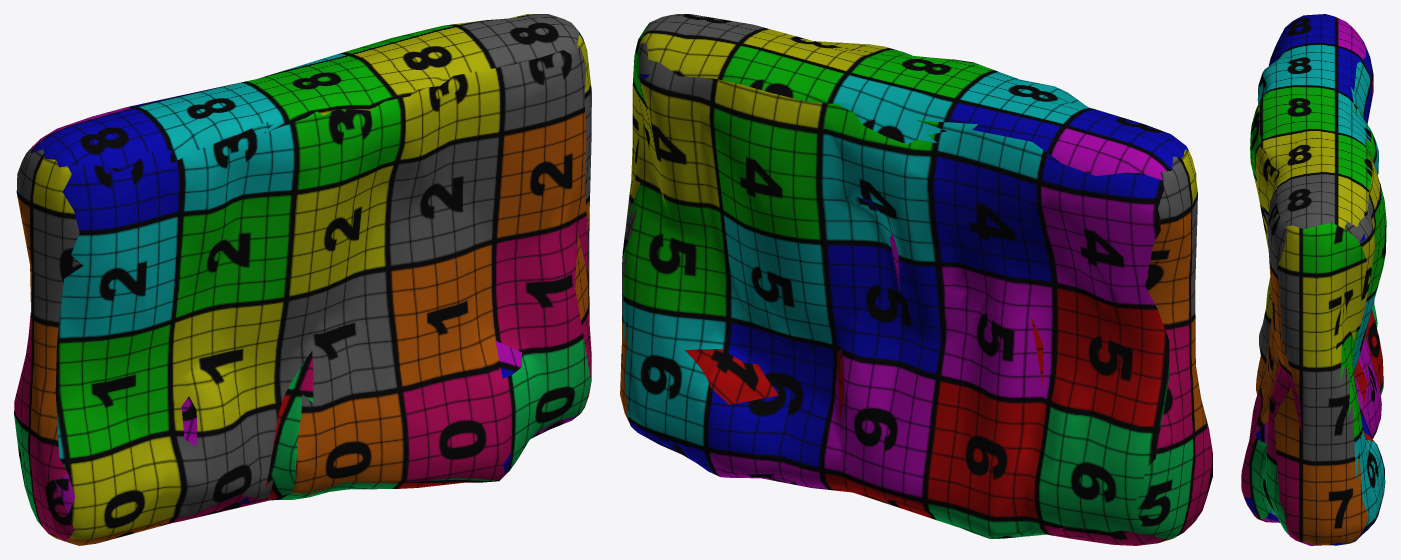
The model's file is rock_wall.fbx.
3 renders of one model, left to right at view 1: azimuth 30°, elevation 25°; view 2: azimuth 150°, elevation 25°; view 3: azimuth 270°, elevation 25°, orthographic. The views are drawn at different scales.
Parts seen in each view (by area): view 1: pCube39; view 2: pCube39; view 3: pCube39.
Part boxes in pixels (<box>): pCube39: <box>14,14,591,545</box>; pCube39: <box>620,14,1212,545</box>; pCube39: <box>1241,14,1386,545</box>.
Size of the model in its own units: 9.54 by 6.91 by 2.6.
Materials: 1 (1 with a texture image).
